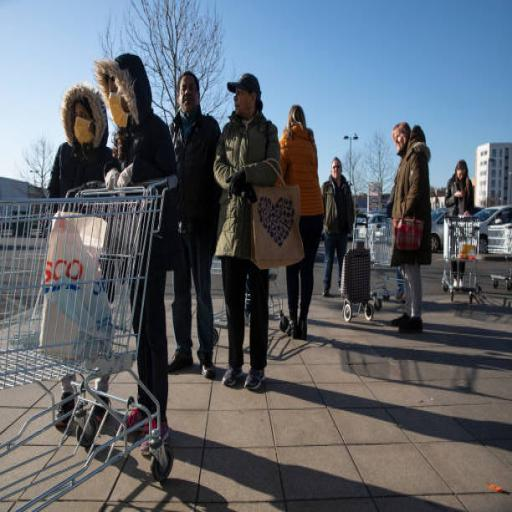shopping_cart: (0, 169, 181, 512), (365, 211, 403, 312), (442, 217, 480, 307), (486, 220, 512, 290)
